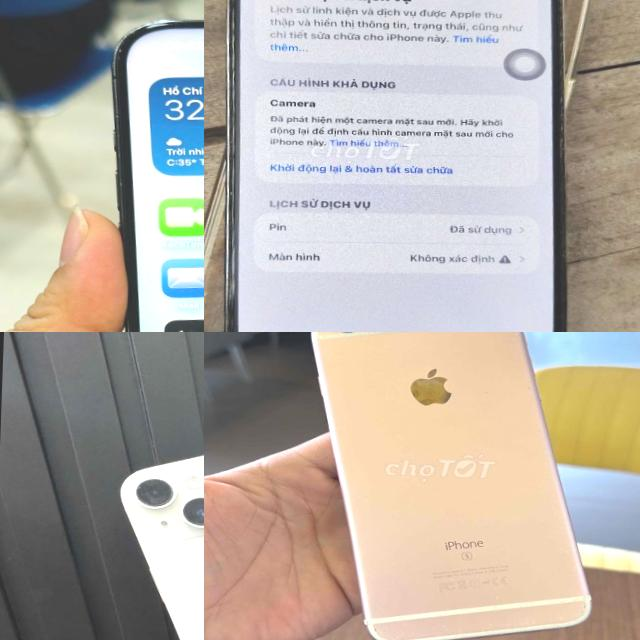scratch: (561, 588, 627, 640), (359, 616, 434, 640), (329, 332, 387, 346)
